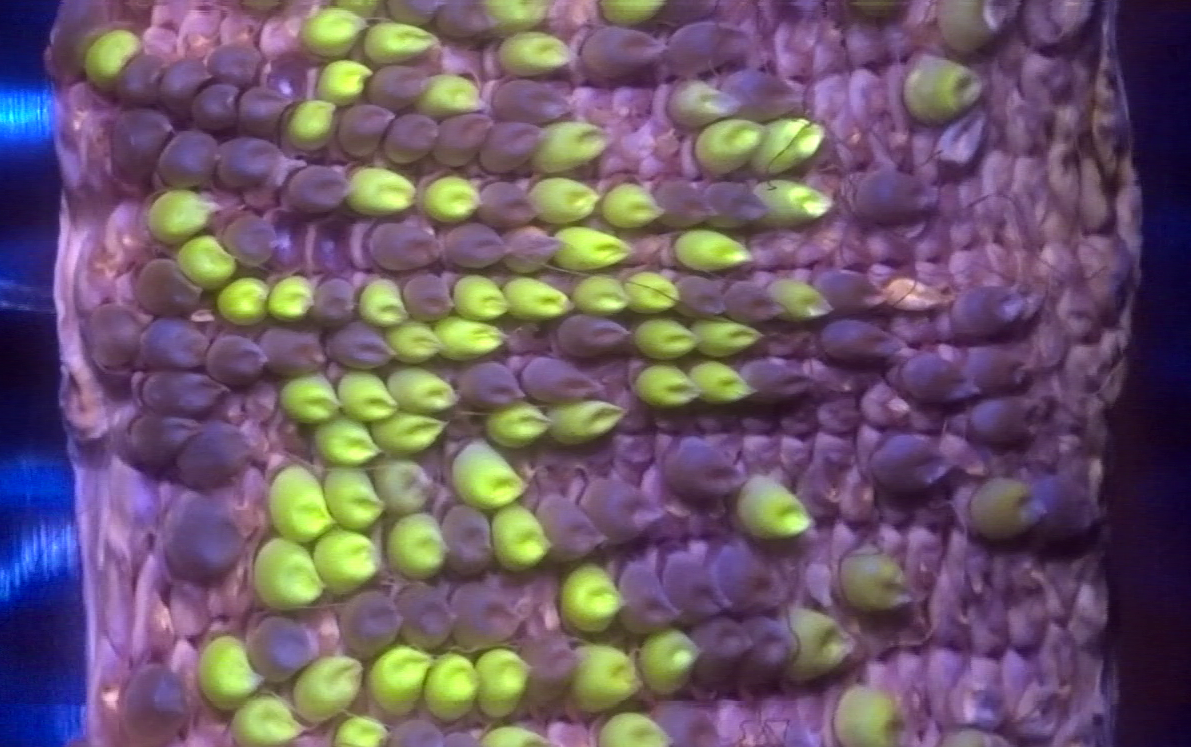fluorescent: (253, 539, 323, 611), (905, 52, 978, 119), (738, 473, 810, 539), (789, 606, 852, 678), (269, 468, 328, 542), (565, 647, 636, 708), (450, 446, 523, 505), (843, 549, 911, 608), (292, 662, 361, 720), (936, 1, 1005, 58), (199, 639, 262, 701), (757, 119, 823, 178), (562, 565, 623, 628), (491, 506, 551, 568), (312, 537, 377, 593), (323, 468, 381, 530), (370, 644, 426, 708), (388, 519, 446, 580), (834, 687, 900, 739), (473, 651, 530, 711), (642, 632, 697, 694), (982, 479, 1038, 537), (423, 655, 478, 714), (539, 121, 599, 174), (389, 367, 458, 413), (545, 403, 624, 443), (757, 181, 830, 224), (352, 167, 416, 215), (418, 70, 483, 117), (551, 224, 625, 265), (700, 120, 751, 179), (362, 22, 435, 62), (178, 241, 235, 292), (504, 278, 572, 320), (678, 229, 752, 267), (230, 697, 293, 741), (604, 182, 664, 227), (88, 32, 137, 87), (485, 405, 547, 448), (148, 191, 213, 232), (279, 380, 337, 425), (375, 416, 440, 456), (527, 181, 596, 218), (768, 277, 826, 321), (637, 366, 699, 407), (316, 421, 378, 462), (436, 321, 504, 358), (339, 374, 396, 418), (495, 39, 573, 71), (690, 363, 754, 402), (454, 273, 505, 318), (576, 274, 627, 319), (689, 323, 758, 356), (289, 96, 331, 148), (308, 12, 362, 52), (599, 717, 676, 745), (364, 279, 411, 324), (428, 175, 477, 218), (218, 285, 268, 327), (323, 59, 364, 107), (635, 322, 694, 355), (478, 1, 550, 27), (384, 324, 437, 359), (269, 278, 311, 319), (622, 278, 679, 308), (599, 1, 668, 23), (331, 722, 393, 742), (478, 729, 553, 744)
nonfluorescent: (168, 493, 251, 585), (121, 657, 189, 747), (585, 475, 664, 549), (666, 433, 750, 498), (1033, 473, 1108, 544), (873, 435, 958, 497), (662, 23, 750, 82), (715, 538, 783, 612), (454, 579, 523, 650), (579, 25, 663, 83), (815, 318, 911, 367), (339, 584, 399, 662), (857, 165, 940, 221), (724, 68, 808, 122), (366, 220, 450, 274), (543, 497, 603, 572), (662, 548, 720, 625), (179, 426, 255, 484), (132, 372, 232, 415), (109, 105, 172, 172), (134, 318, 212, 372), (397, 580, 456, 651), (950, 282, 1029, 335), (444, 503, 501, 576), (697, 615, 752, 690), (618, 558, 673, 633), (248, 618, 314, 679), (966, 393, 1044, 444), (705, 174, 772, 233), (902, 348, 968, 407), (526, 363, 612, 408), (138, 260, 207, 316), (740, 356, 813, 408), (492, 80, 571, 128), (963, 346, 1033, 400), (83, 303, 138, 371), (445, 221, 516, 273), (525, 632, 574, 707), (264, 324, 329, 380), (284, 158, 350, 213), (556, 316, 633, 363), (362, 57, 432, 108), (206, 328, 267, 385), (503, 221, 566, 276), (327, 323, 400, 370), (438, 112, 489, 179), (477, 121, 538, 176), (224, 213, 285, 267), (745, 616, 793, 684), (221, 133, 277, 191), (203, 35, 266, 86), (50, 18, 100, 81), (163, 130, 215, 189), (460, 360, 525, 407), (820, 265, 886, 310), (485, 178, 539, 232), (381, 112, 436, 165), (655, 698, 714, 747), (126, 414, 187, 460), (660, 178, 715, 227), (339, 103, 387, 159), (161, 57, 204, 119), (307, 278, 362, 326), (236, 88, 286, 138), (725, 280, 779, 326), (437, 1, 491, 44), (674, 276, 732, 316), (119, 56, 162, 108), (407, 276, 456, 321), (192, 84, 237, 130), (390, 716, 445, 747), (386, 1, 442, 29)
